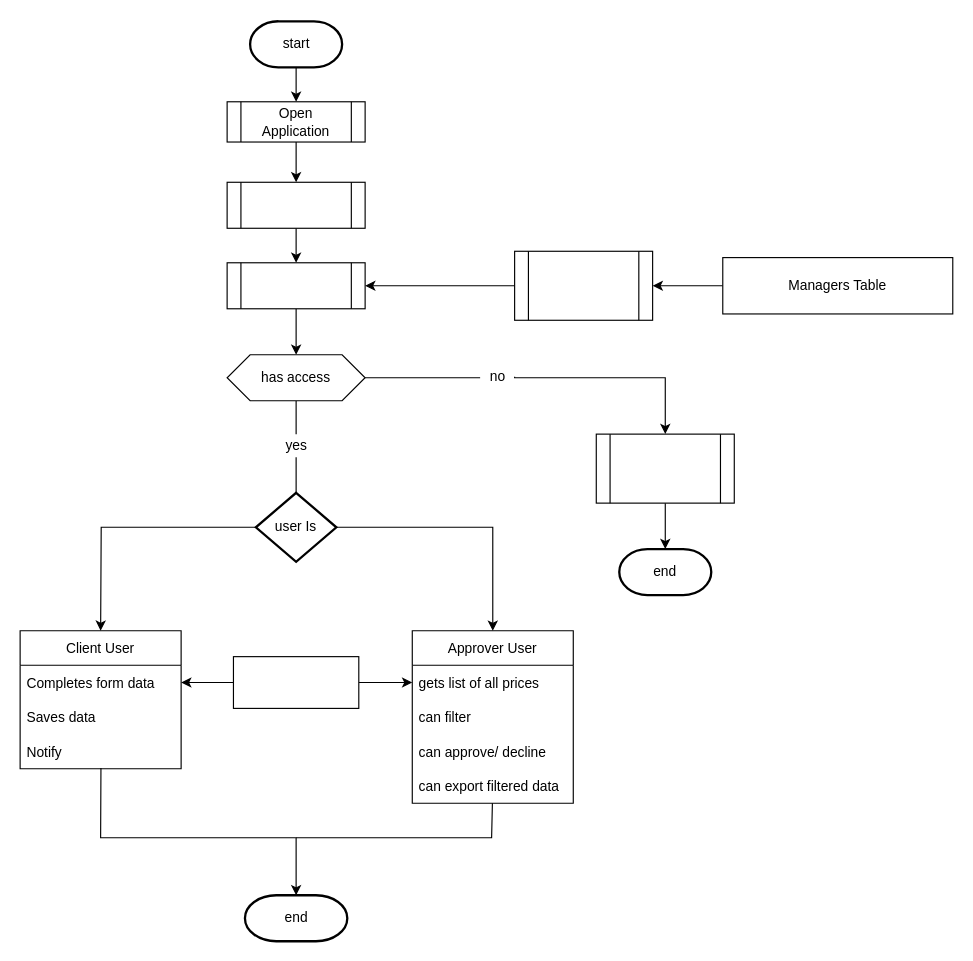
Image size: 973x961. Some labels were removed from this diagram. Each missing label, with the centre of its shape:
Database: [583,285]
Notifier approved declined price: [295,682]
Notify Manager: [664,468]
Open Form: [295,204]
Prompt for Login: [295,285]
